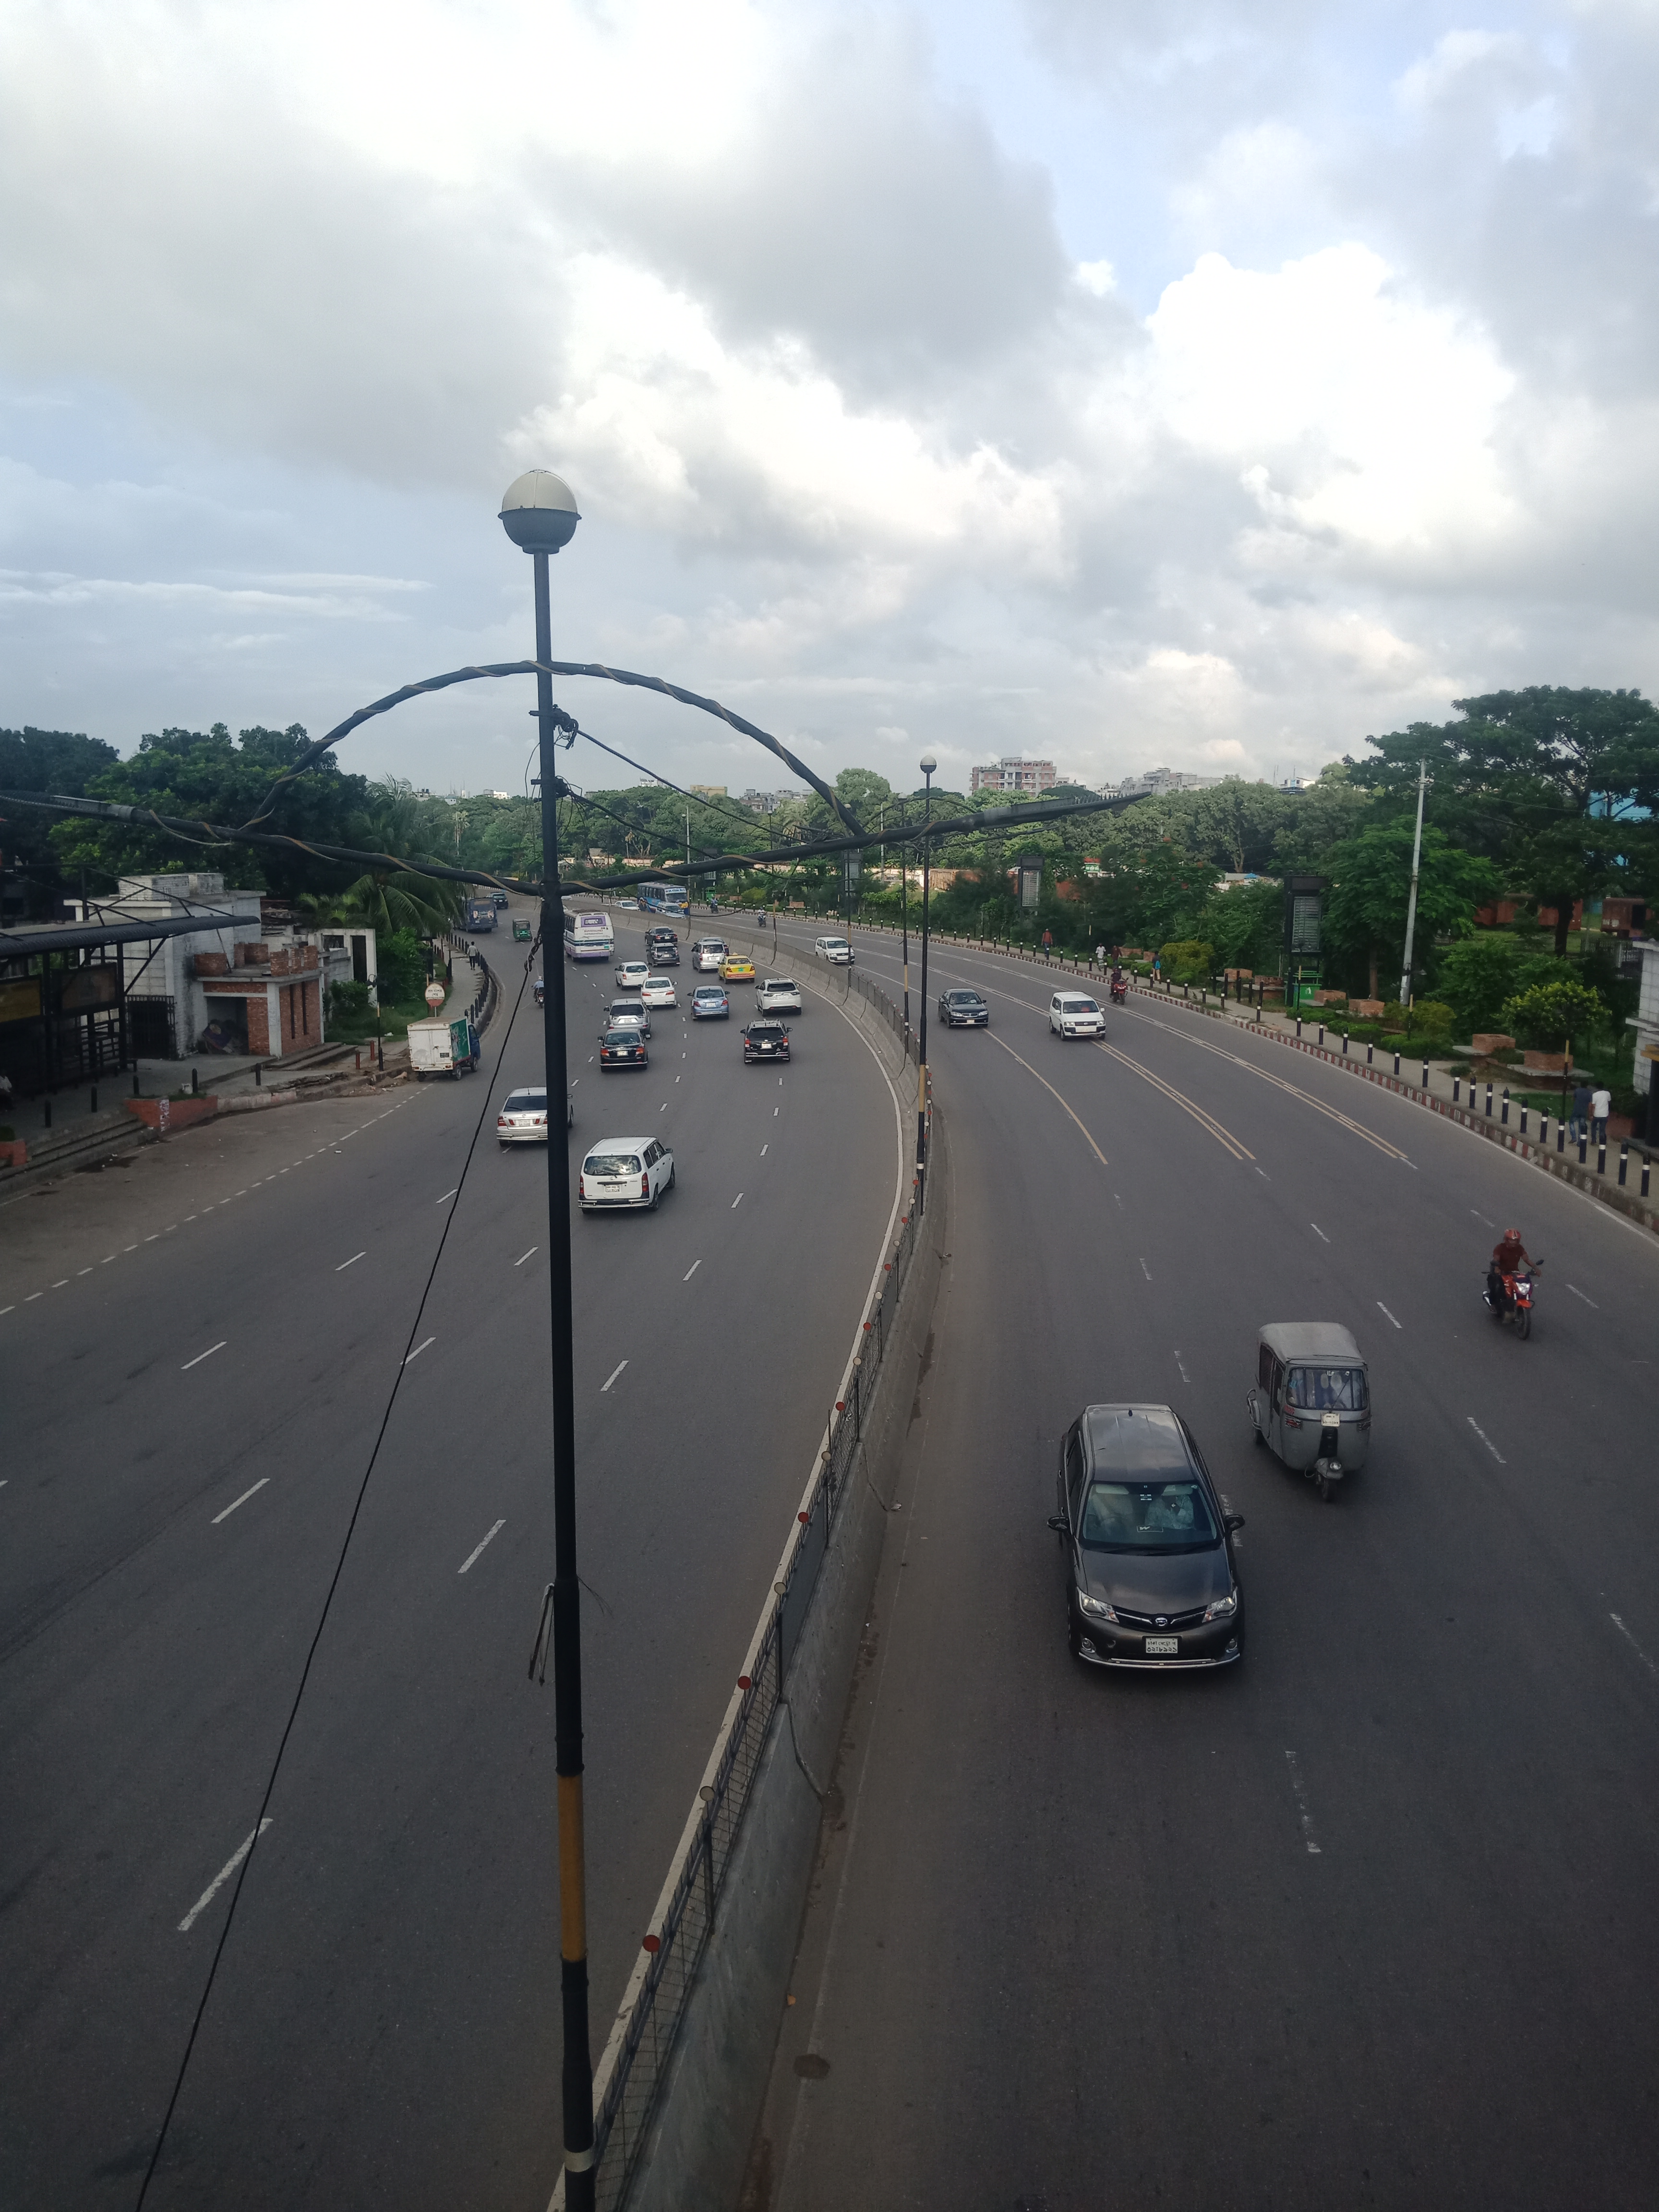bike: (1485, 1256, 1546, 1324)
bus: (568, 909, 620, 963)
car: (1053, 1399, 1248, 1681), (579, 1139, 676, 1217), (490, 1083, 556, 1150), (1042, 981, 1107, 1043), (744, 1015, 798, 1069), (936, 977, 988, 1033), (599, 1026, 652, 1076), (751, 967, 802, 1019), (617, 970, 671, 1015), (692, 984, 730, 1022)
cng: (1251, 1324, 1382, 1508)
truck: (401, 1015, 493, 1073)
